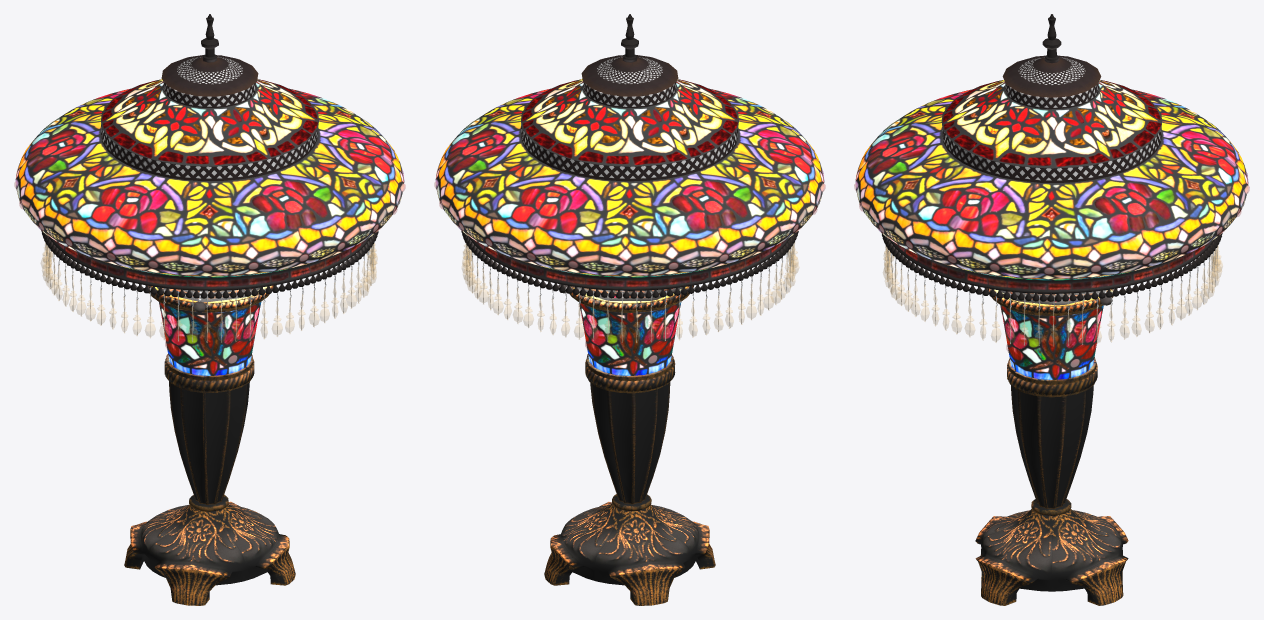
Rendered from StainedGlassLamp.glb.
The picture shows the model from 3 angles, left to right: view 1: azimuth 30°, elevation 25°; view 2: azimuth 150°, elevation 25°; view 3: azimuth 270°, elevation 25°; orthographic projection.
Parts seen in each view (by area): view 1: object 4, object 1, amberbeads, redgems; view 2: object 4, object 1, amberbeads, redgems; view 3: object 4, object 1, amberbeads, redgems.
Part boxes in pixels (x1=…): object 4: x1=15, y1=14, x2=404, y2=605; object 1: x1=45, y1=55, x2=373, y2=342; amberbeads: x1=41, y1=243, x2=377, y2=342; redgems: x1=14, y1=182, x2=405, y2=363; object 4: x1=435, y1=14, x2=824, y2=605; object 1: x1=466, y1=55, x2=794, y2=342; amberbeads: x1=462, y1=243, x2=799, y2=342; redgems: x1=434, y1=182, x2=825, y2=363; object 4: x1=855, y1=14, x2=1248, y2=605; object 1: x1=886, y1=55, x2=1217, y2=345; amberbeads: x1=883, y1=245, x2=1222, y2=346; redgems: x1=854, y1=184, x2=1249, y2=367.
Size of the model in its own units: 0.4399 by 0.6889 by 0.4399.
Materials: 8 (4 with a texture image).
